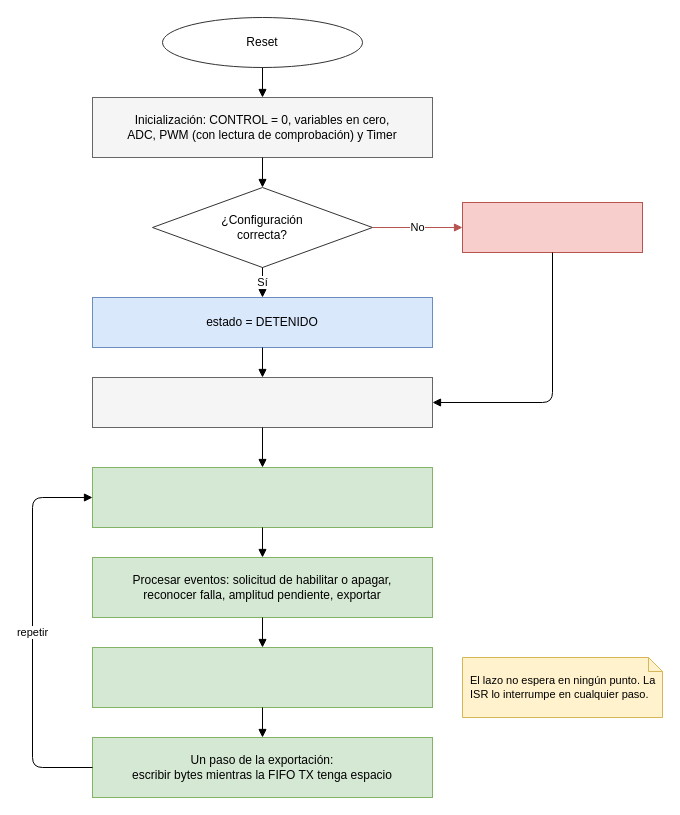
This 680x815 diagram has some shape labels left out. Here are the shapes that lost their labels. From the top down, the box of each, then its label:
(462, 202, 642, 252): estado = FALLA
(92, 376, 432, 428): Arrancar el Timer y habilitar interrupciones
(92, 466, 432, 528): Leer botones e interruptores (antirrebote con el contador de iteraciones)
(92, 646, 432, 708): Actualizar LED (operación, falla, exportando, latido)
